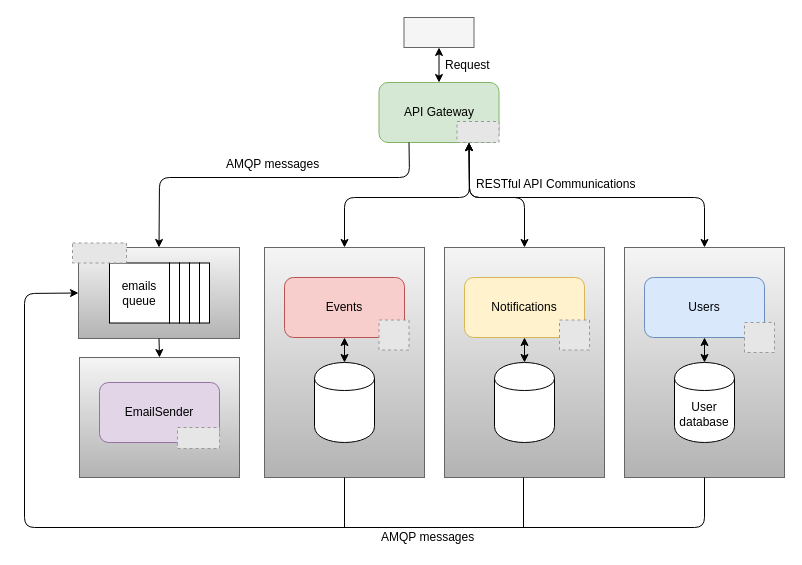
The diagram is 802 pixels wide and 565 high, and some of its shapes have lost their labels. Grey dashed boxes stand in for pictures. The shapes that lost their labels are listed below. From the top down, each one's centre as x and y in pixels, then its label:
At pixel 438 32: "User".
At pixel 344 402: "Events database".
At pixel 524 402: "Notifications database".
